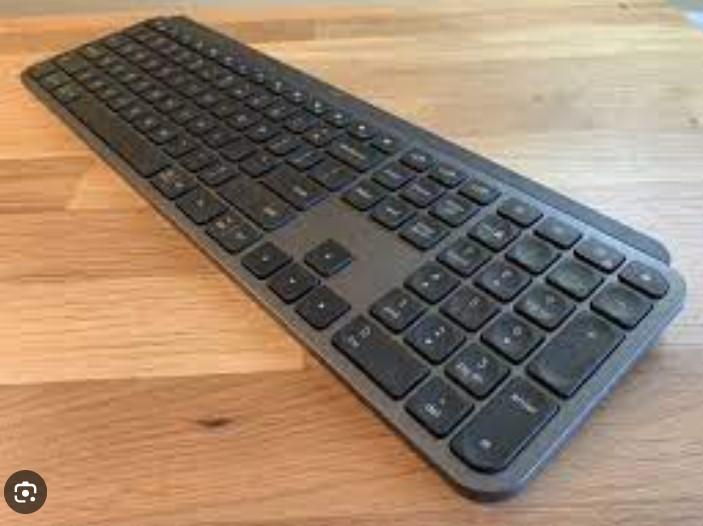Keyboard: (18, 16, 688, 506)
